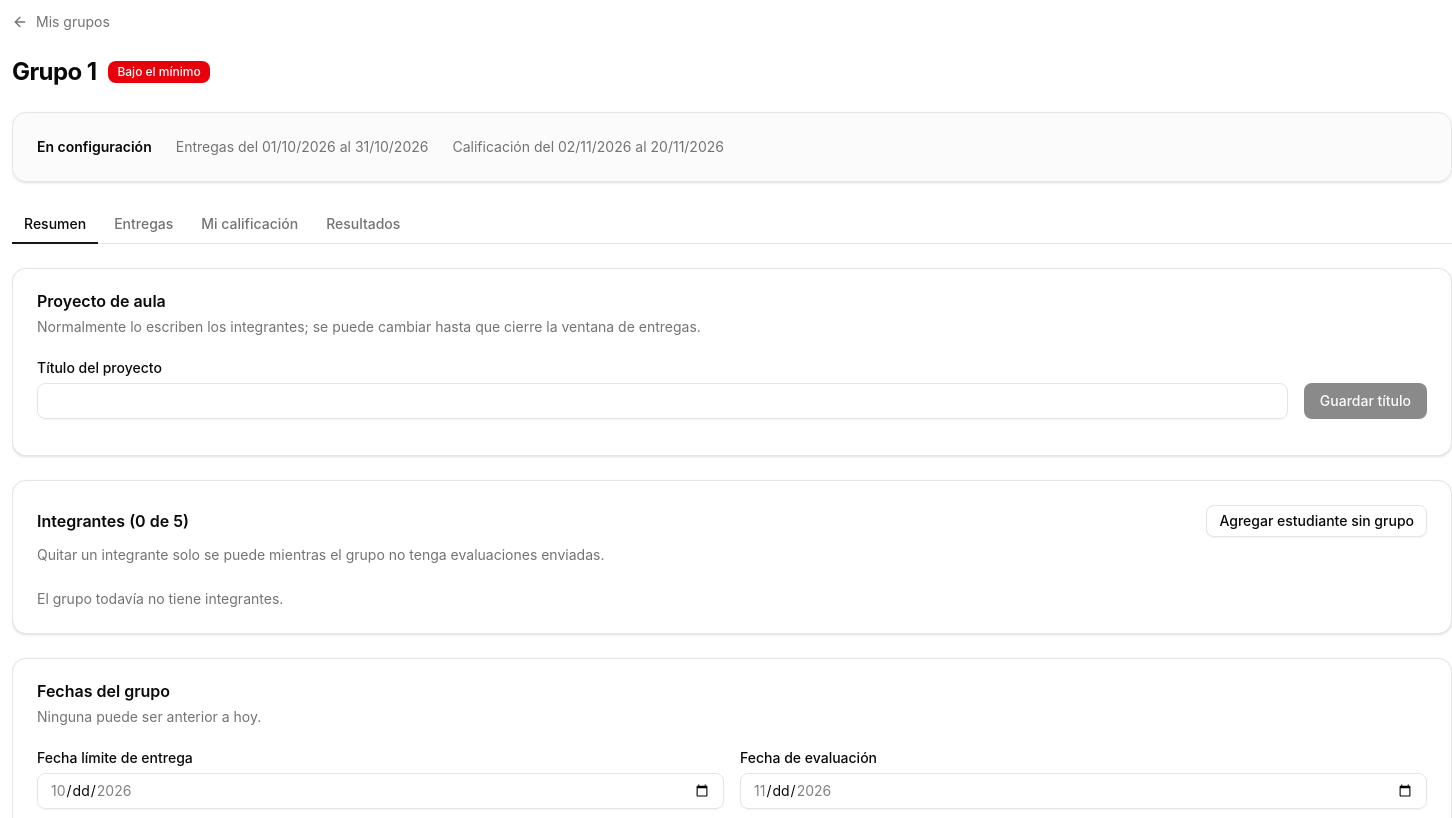
Test: GroupDetailPage › adds a student without a group
This screenshot has width=1452, height=818.
Click the button "Agregar estudiante sin grupo". click: (1317, 521)
box: [1206,505,1427,537]
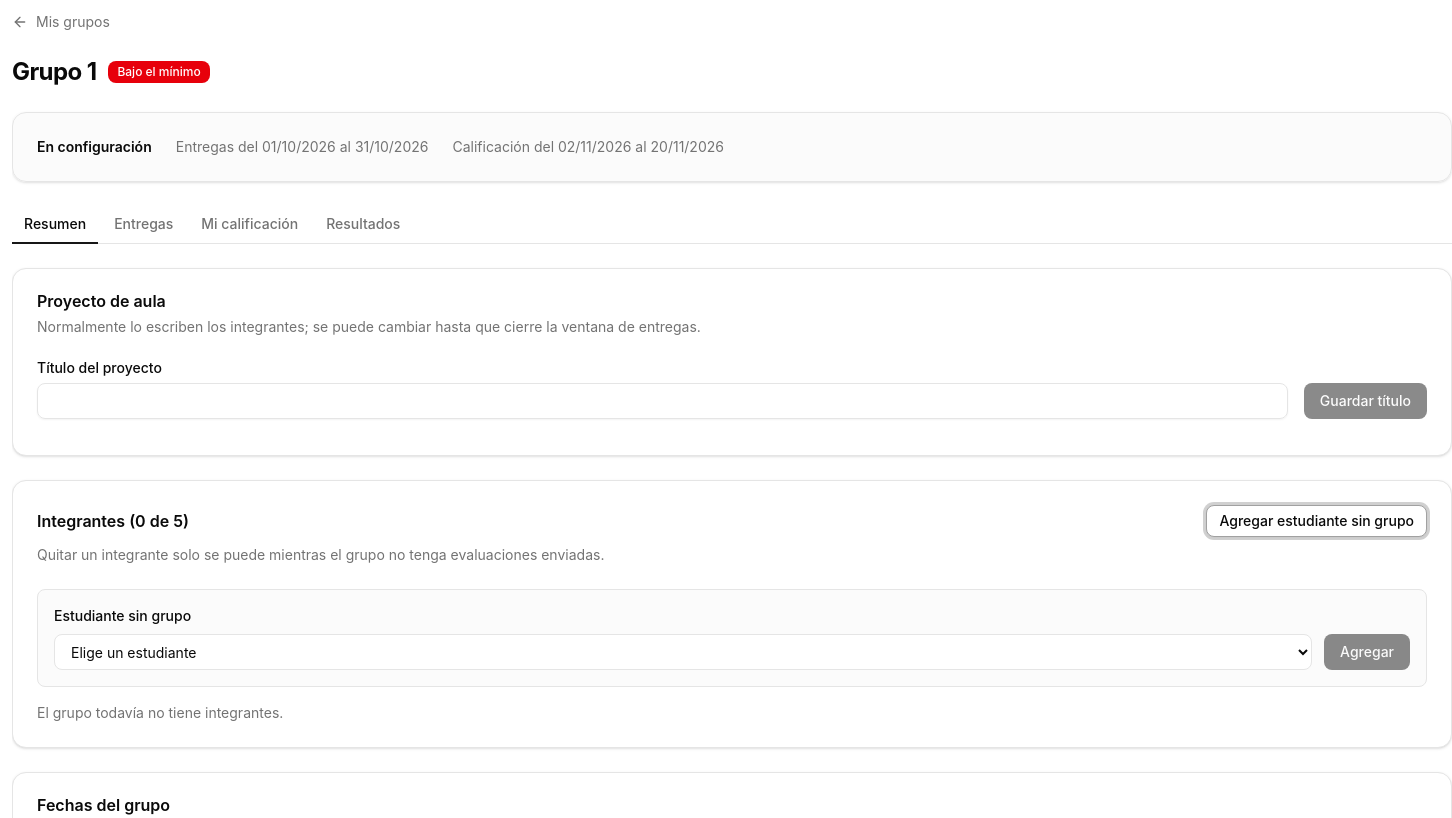
Select "Luis Martínez · 20261022 · semestre 2" in the dropdown labelled "Estudiante sin grupo". click: (683, 652)
box: [54,634,1312,670]
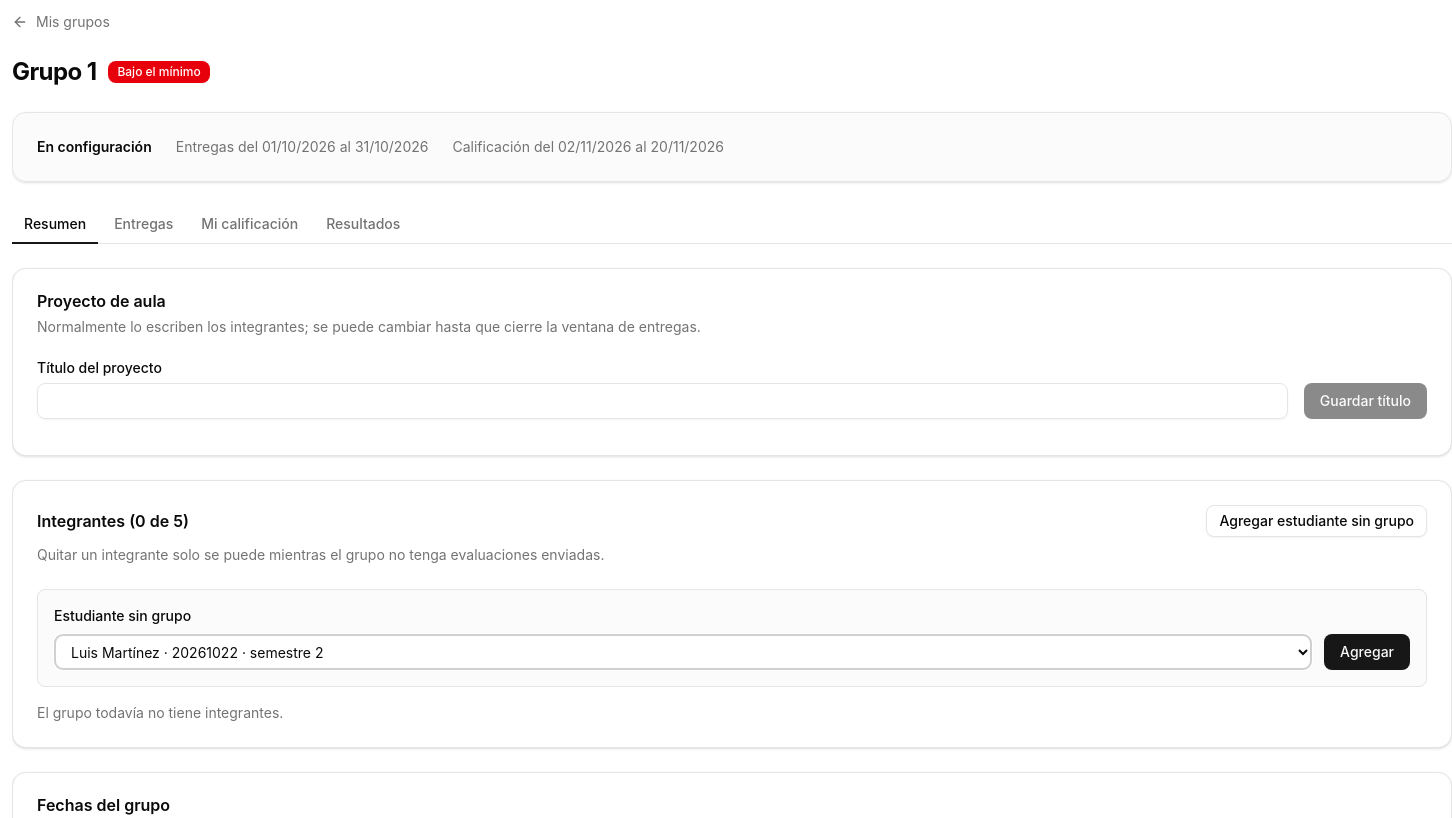
Click the button "Agregar". click: (1367, 652)
box: [1324,634,1410,670]
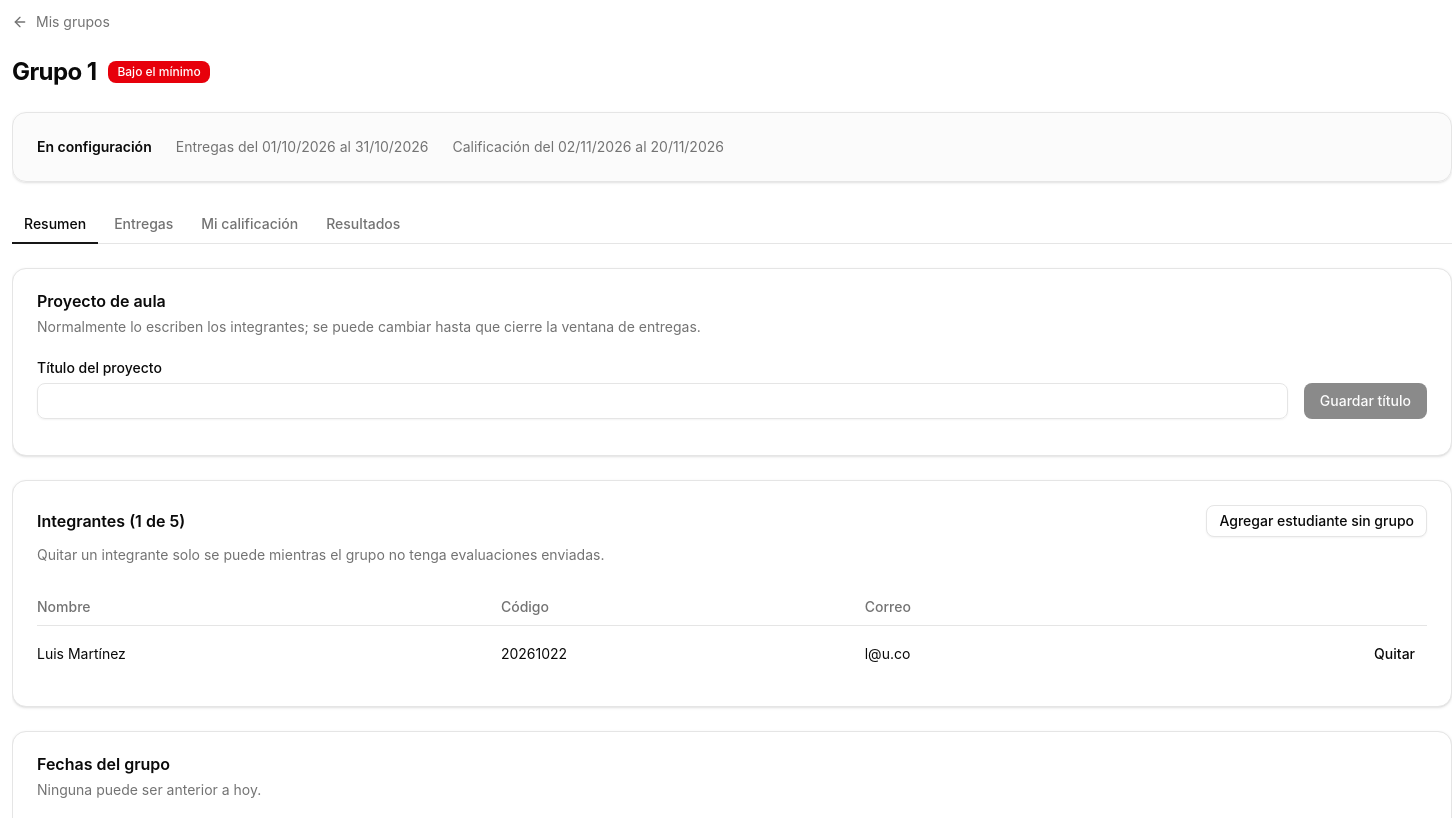
Result: the text "Integrantes (1 de 5)" is shown at [37,513,185,529]
